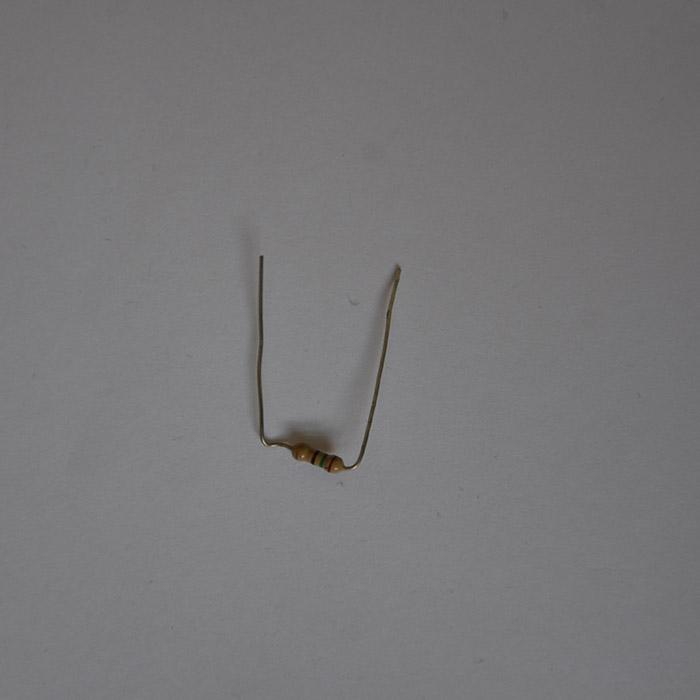resistor: (292, 442, 345, 473)
